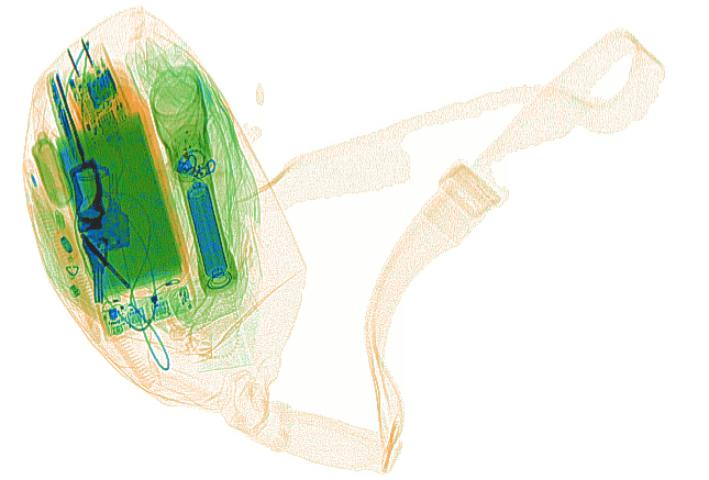battery: (186, 184, 228, 279)
